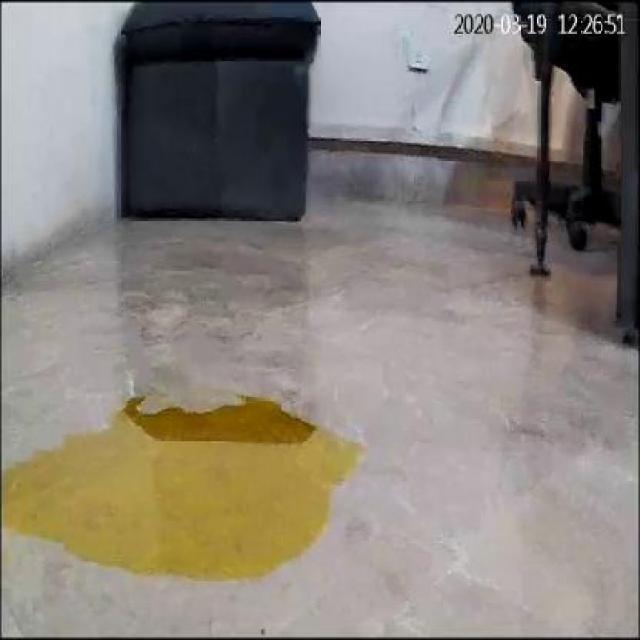spill: (4, 388, 356, 580)
